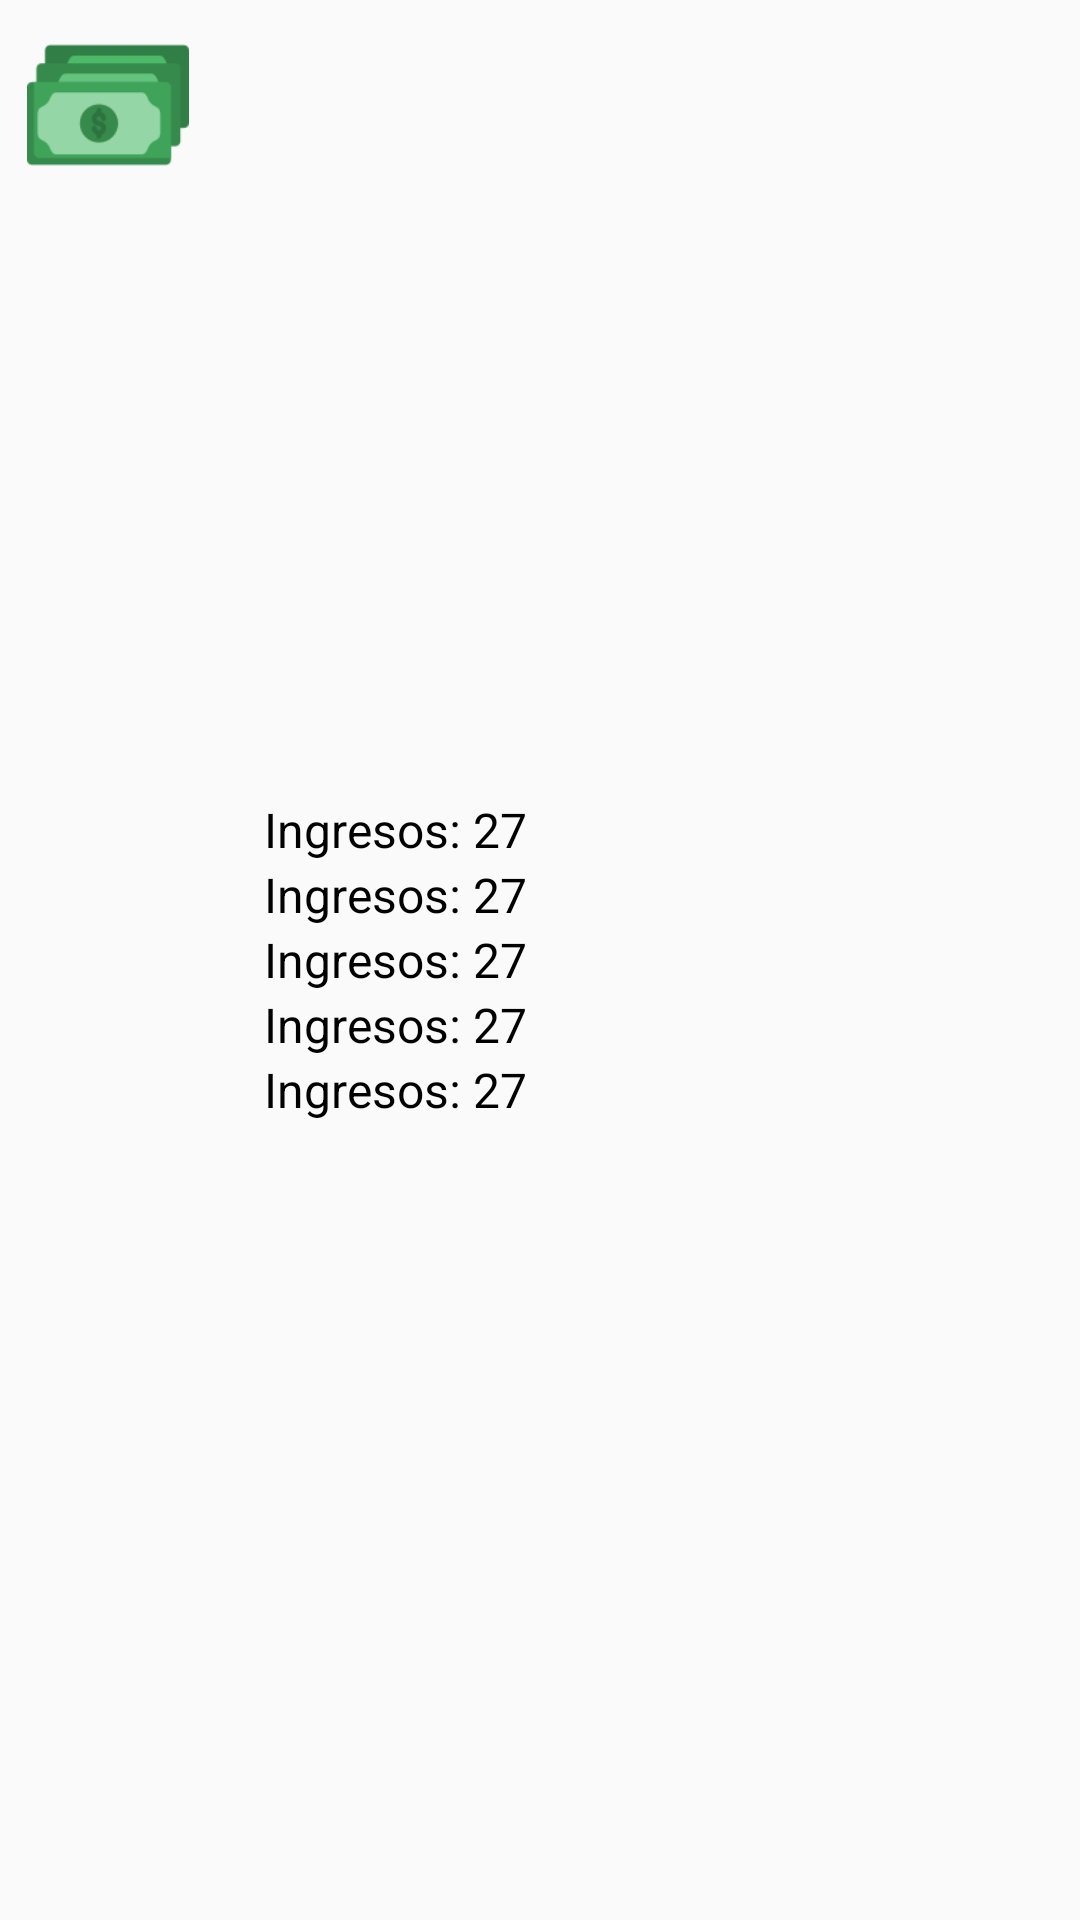

Icon click points for this 1080 x 1920 phone screenshot, format (x=x, y=y):
money: (x=108, y=105)
